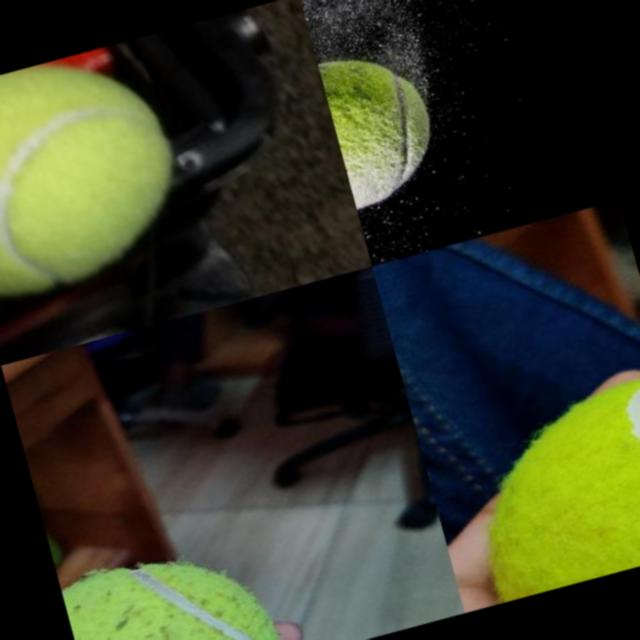tennis-ball: (0, 36, 202, 308), (452, 371, 640, 602), (58, 527, 287, 640), (318, 38, 450, 211)
